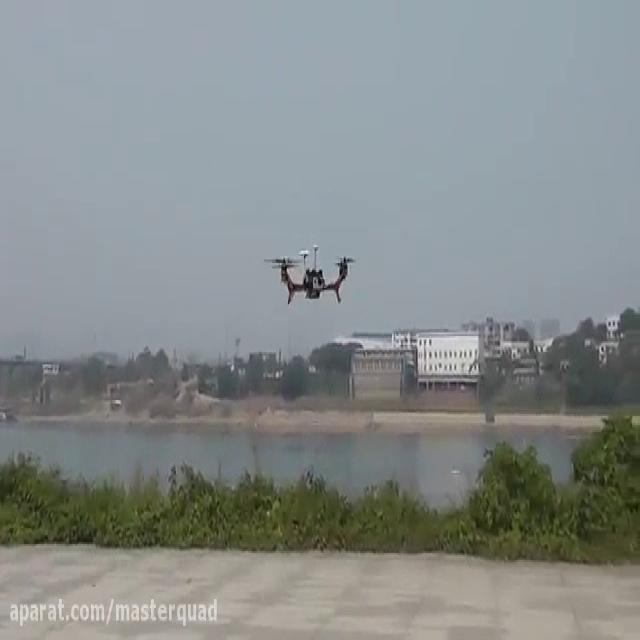drone: (261, 238, 360, 306)
